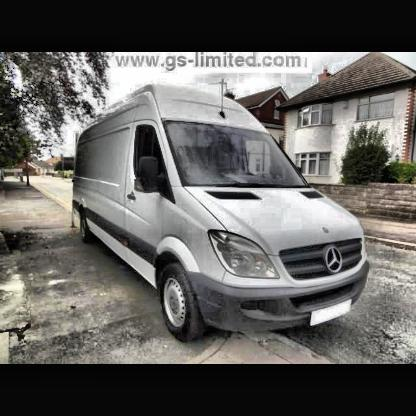Mercedes-Benz Sprinter Van 2012: (75, 84, 371, 345)
